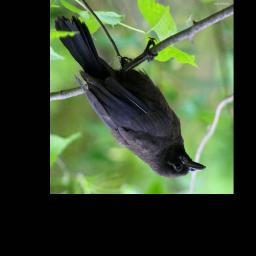Crow: (53, 14, 206, 179)
